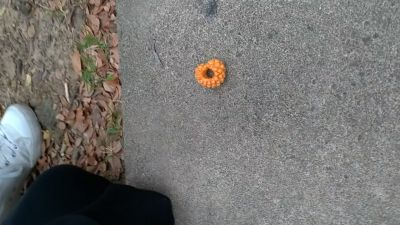eggs: (193, 56, 225, 90)
